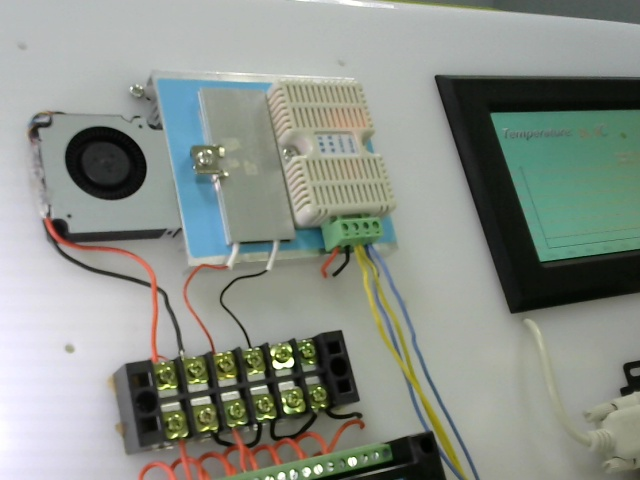fan: (25, 100, 172, 249)
